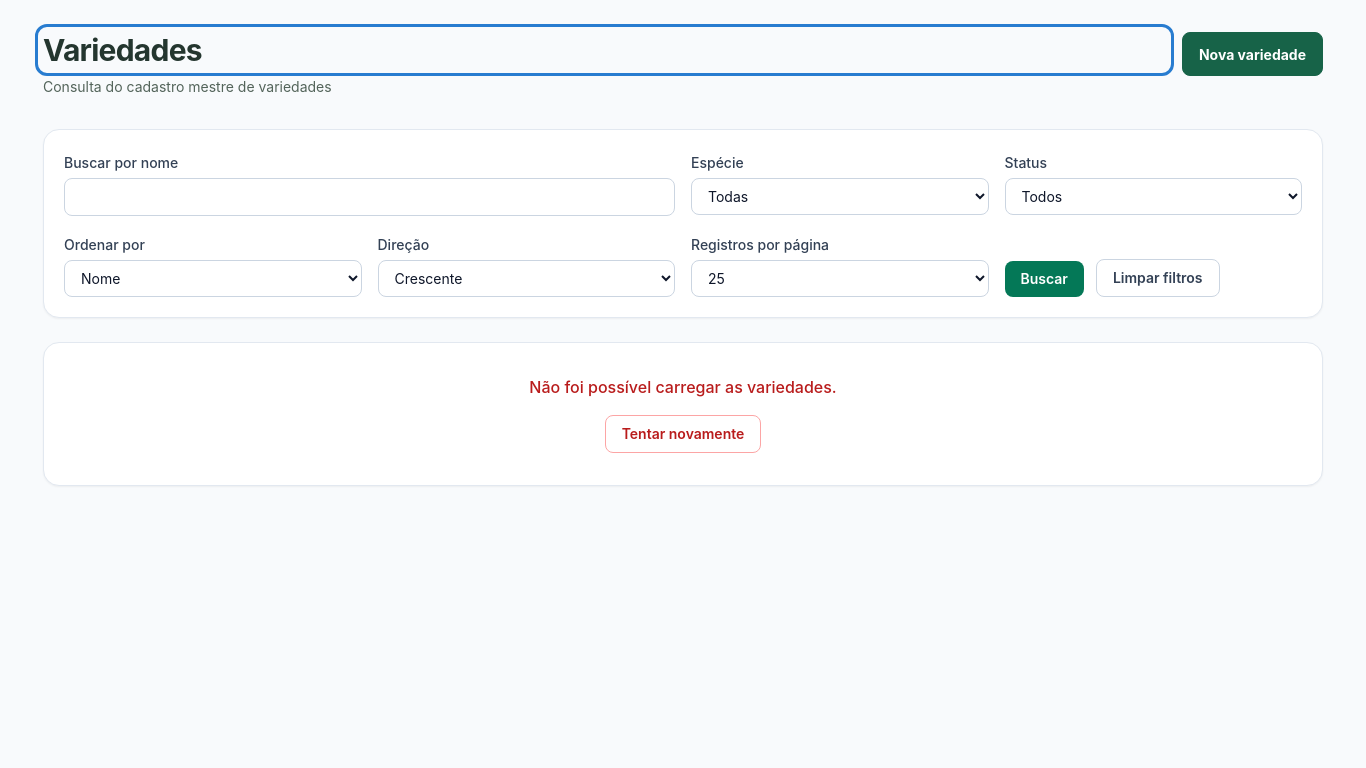
Test: VarietiesListPage › mostra falha e permite tentar novamente
expect the message shows "Não foi possível carregar as variedades.": met, box [529,377,837,397]
Click the button "Tentar novamente" at (683, 434), box [605,415,761,453]
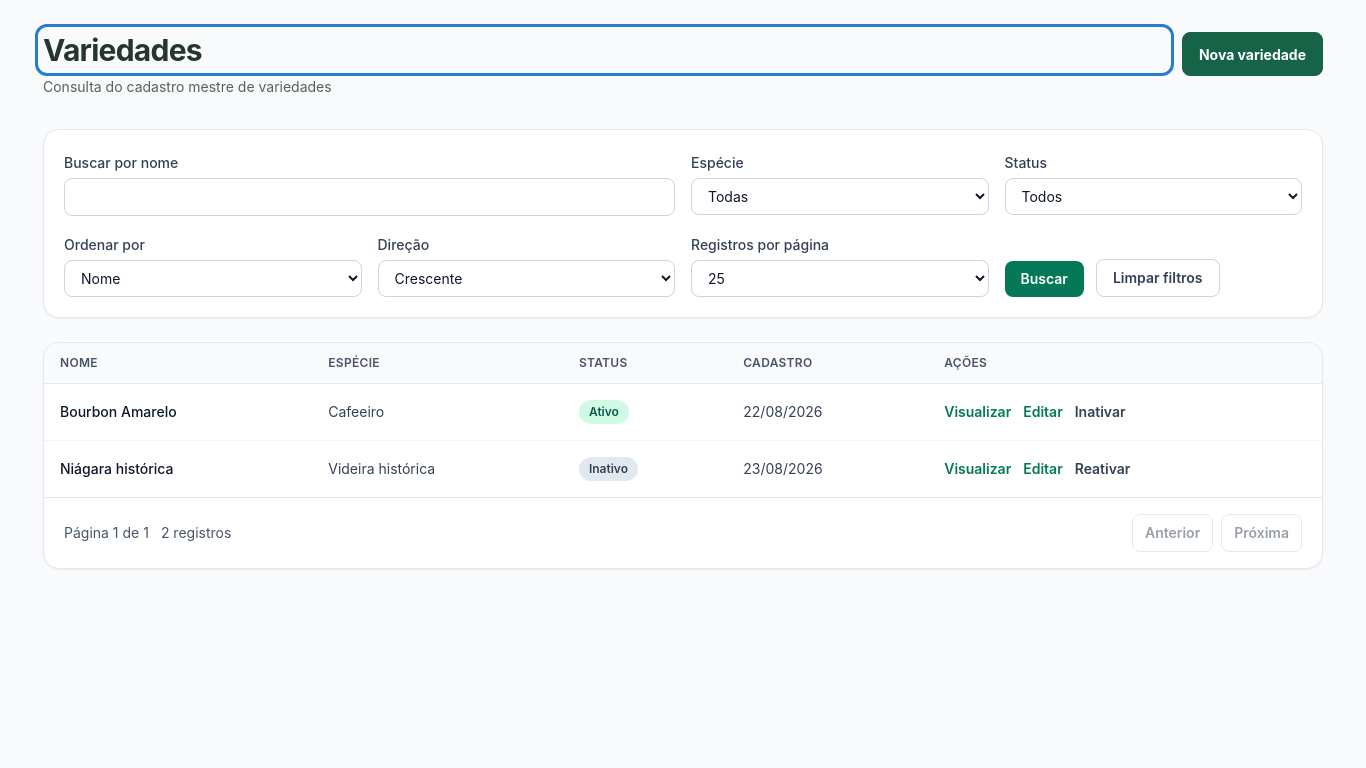
expect the text "Bourbon Amarelo" is shown: met, box [44,384,312,440]
